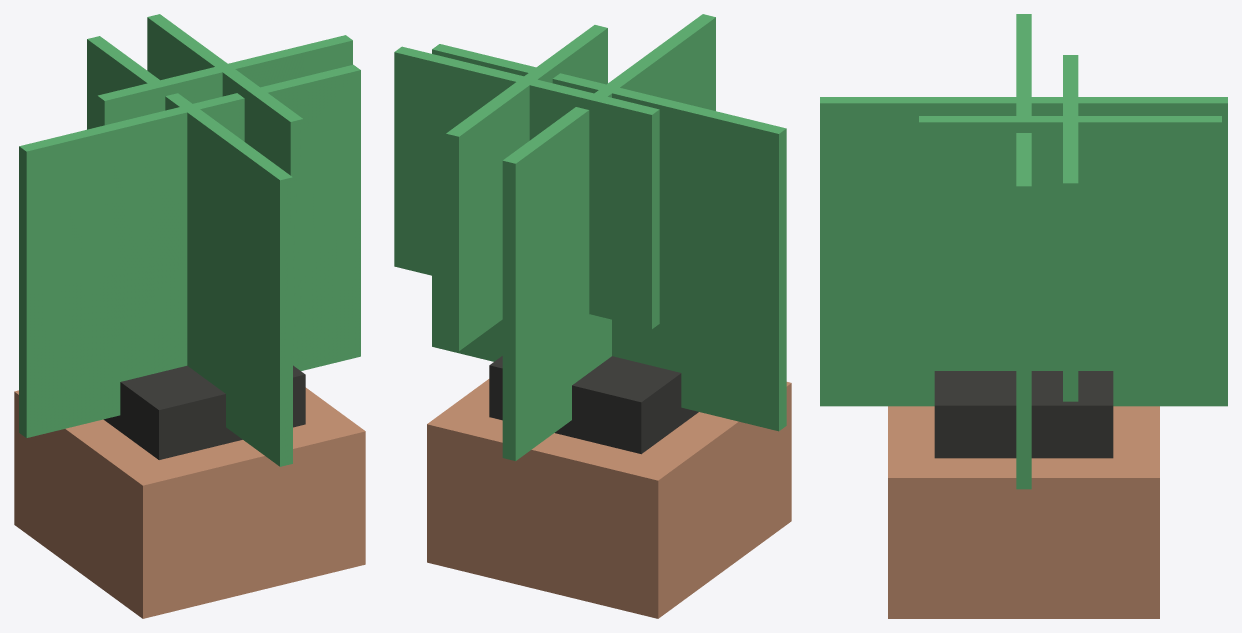
Rendered from house_plant.glb.
3 renders of one model, left to right at view 1: azimuth 30°, elevation 25°; view 2: azimuth 150°, elevation 25°; view 3: azimuth 270°, elevation 25°, orthographic. The views are drawn at different scales.
Size of the model in its own units: 1.09 by 1.34 by 1.05.
